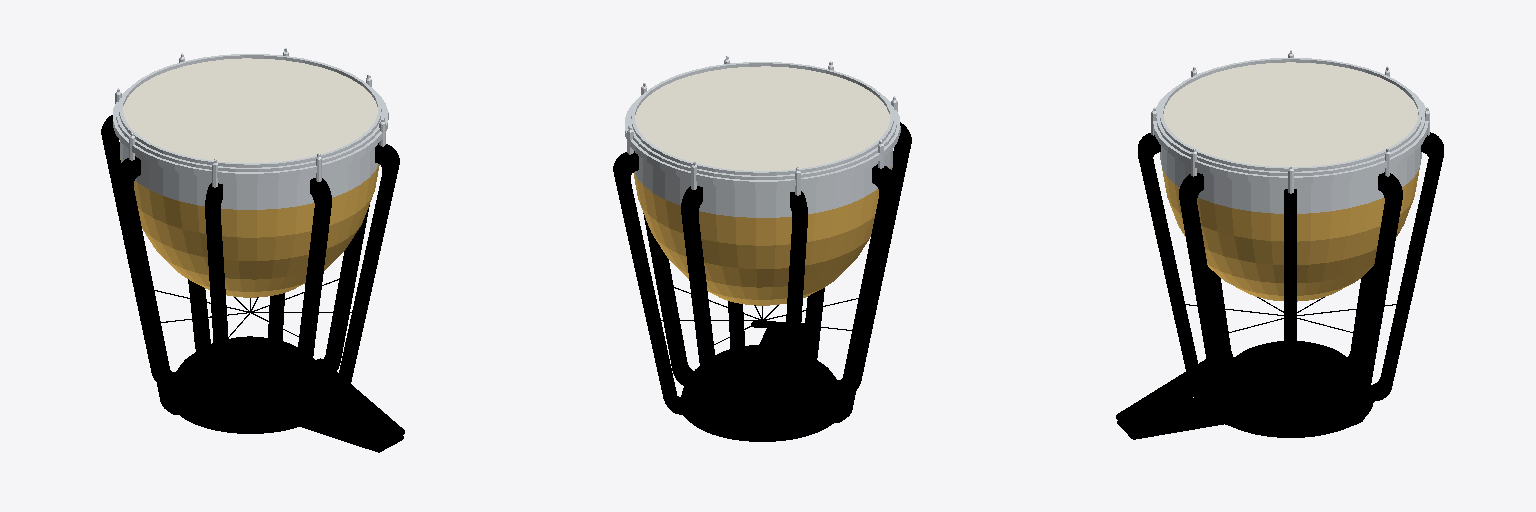
The model's file is timpani.obj.
The picture shows the model from 3 angles: view 1: azimuth 30°, elevation 25°; view 2: azimuth 150°, elevation 25°; view 3: azimuth 270°, elevation 25°; orthographic projection.
Visible parts, largest first — view 1: timpani_black, timpani_drum, timpani_gold, timpani_silver; view 2: timpani_black, timpani_drum, timpani_gold, timpani_silver; view 3: timpani_black, timpani_drum, timpani_gold, timpani_silver.
Part boxes in pixels (left/top/right/bottom): timpani_black: left=101, top=115, right=404, bottom=452; timpani_drum: left=123, top=58, right=377, bottom=162; timpani_gold: left=120, top=159, right=379, bottom=297; timpani_silver: left=113, top=48, right=388, bottom=209; timpani_black: left=613, top=122, right=911, bottom=441; timpani_drum: left=635, top=66, right=889, bottom=170; timpani_gold: left=634, top=167, right=892, bottom=305; timpani_silver: left=625, top=56, right=900, bottom=217; timpani_black: left=1116, top=132, right=1443, bottom=439; timpani_drum: left=1163, top=62, right=1417, bottom=166; timpani_gold: left=1162, top=168, right=1419, bottom=301; timpani_silver: left=1151, top=50, right=1429, bottom=213.
Size of the model in its own units: 1.13 by 1.2 by 1.21.